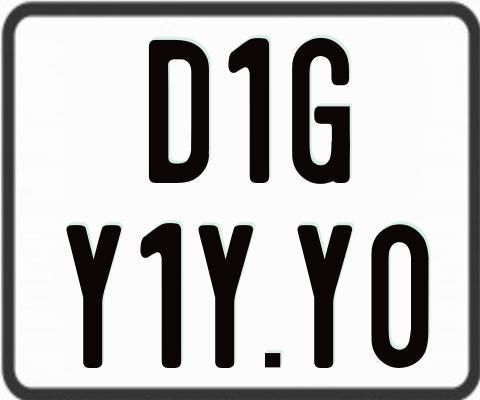0: (371, 224, 435, 373)
1: (228, 36, 273, 183), (140, 220, 181, 365)
D: (149, 39, 214, 187)
G: (292, 36, 351, 188)
Y: (67, 222, 127, 369), (295, 222, 354, 369), (196, 224, 251, 369)
